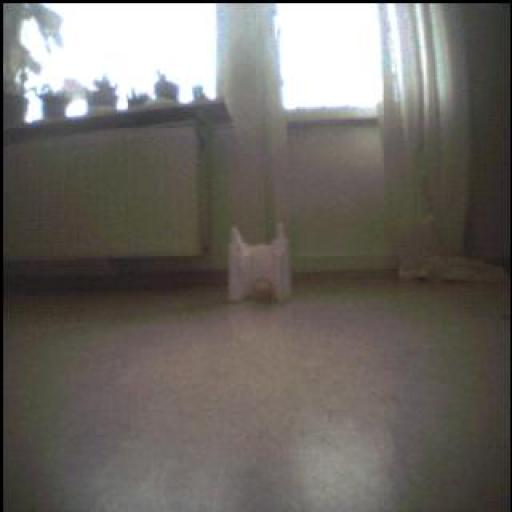Basket: (251, 274, 279, 309)
